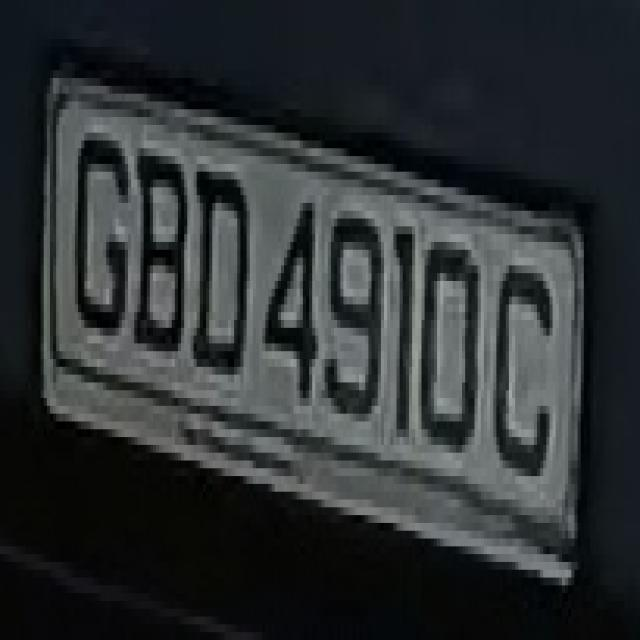0: (421, 211, 484, 476)
1: (387, 180, 422, 468)
4: (262, 164, 328, 406)
9: (325, 180, 387, 460)
B: (128, 133, 187, 367)
C: (481, 226, 562, 492)
D: (187, 148, 253, 406)
G: (66, 109, 134, 367)
